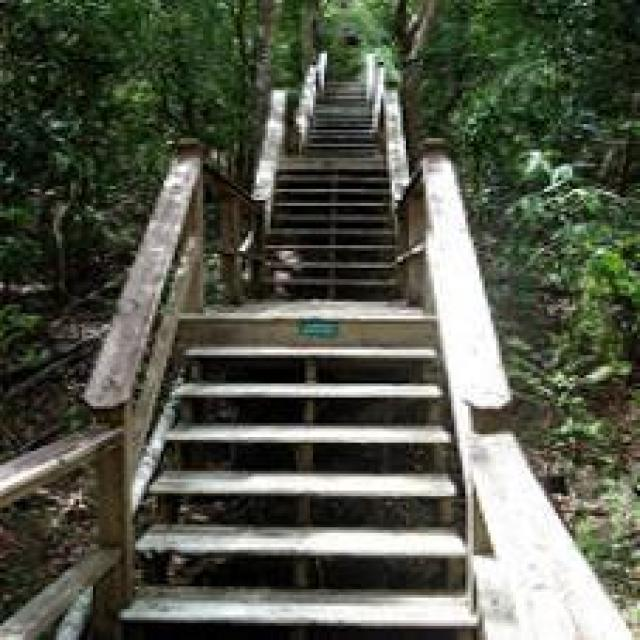upstair: (128, 328, 469, 630)
